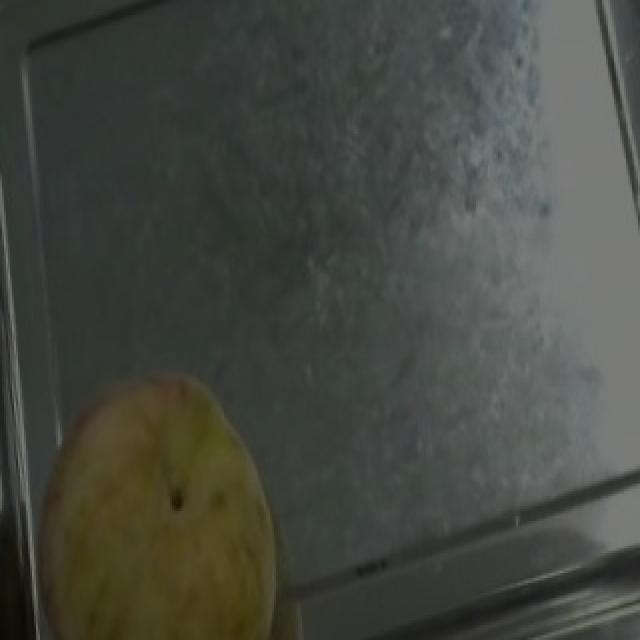Fruit: (2, 352, 314, 640)
